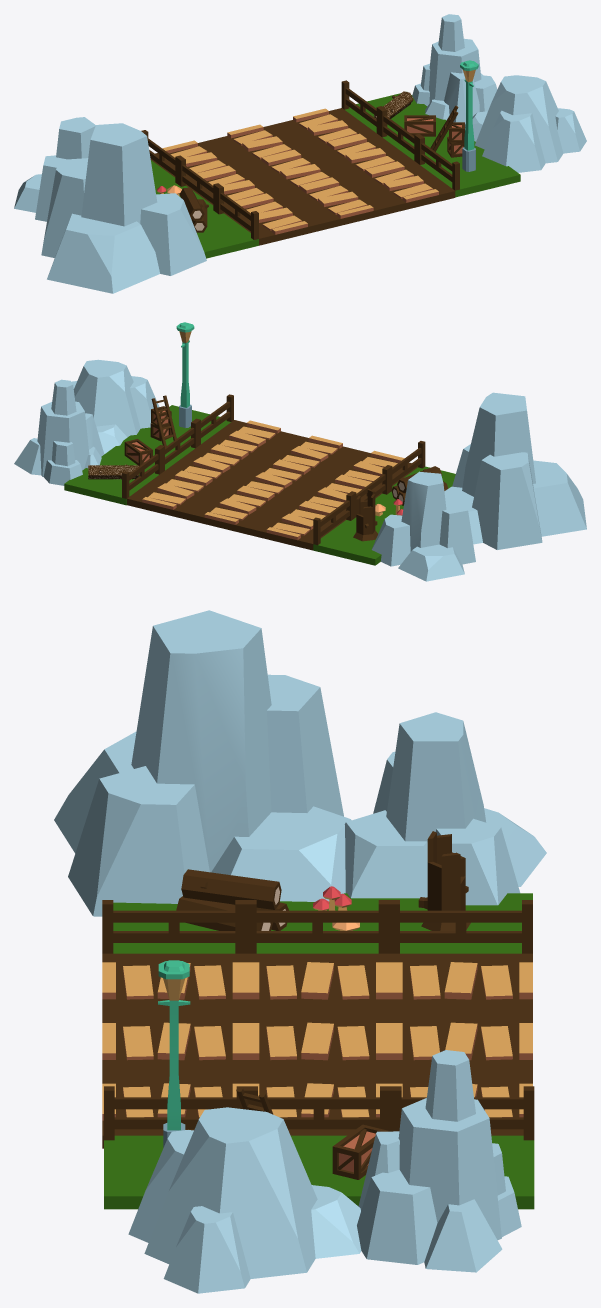
Rendered from NaturesGuardian-3.obj.
3 views of the same model, one above another, from view 1: azimuth 30°, elevation 25°; view 2: azimuth 150°, elevation 25°; view 3: azimuth 270°, elevation 25° (orthographic). The views are drawn at different scales.
Visible parts, largest first — view 1: mergedBlocks; view 2: mergedBlocks; view 3: mergedBlocks.
Boxes of the visible parts, x1,y1,x2,y2 form: mergedBlocks: (14,14,586,293); mergedBlocks: (14,322,586,581); mergedBlocks: (54,610,546,1293).
Size of the model in its own units: 8.35 by 1.74 by 3.44.
